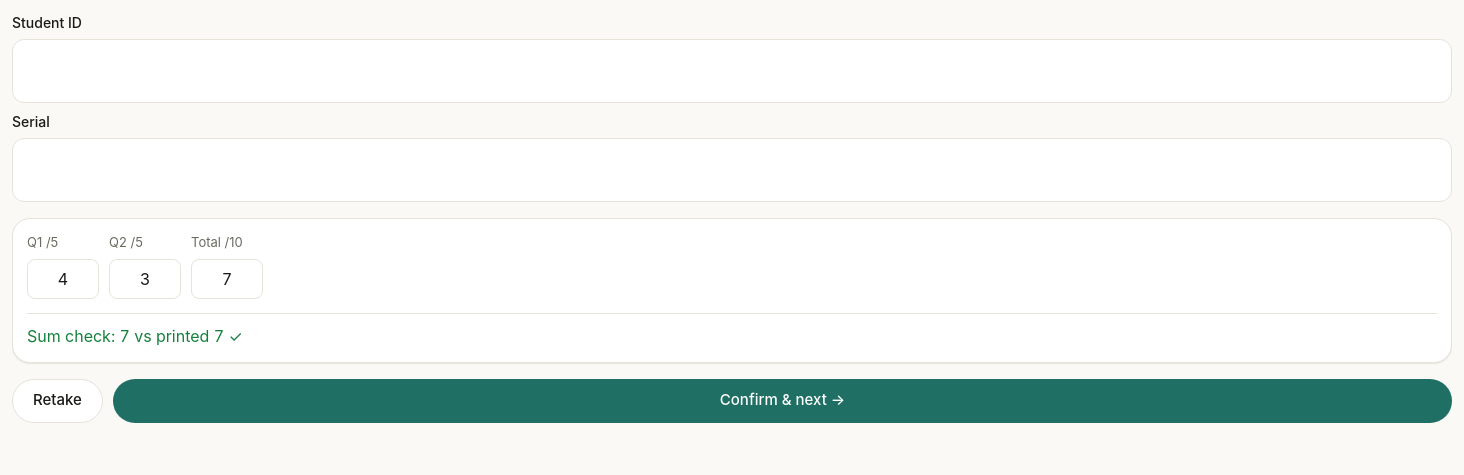
it: Review — save path › blocks save and asks for identity when both fields are empty
The image size is (1464, 475).
Step 1. Click the button "Confirm & next →" → x=782, y=400, box left=113, top=378, right=1452, bottom=422
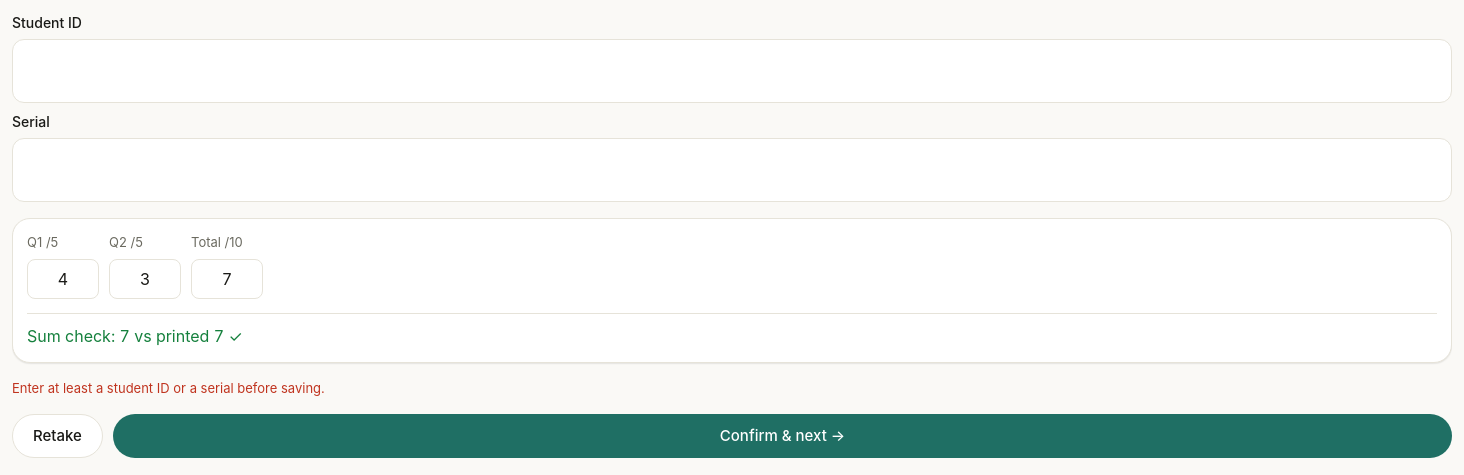
Now the text "Enter at least a student ID or a serial before saving." is shown, box left=12, top=380, right=325, bottom=396
